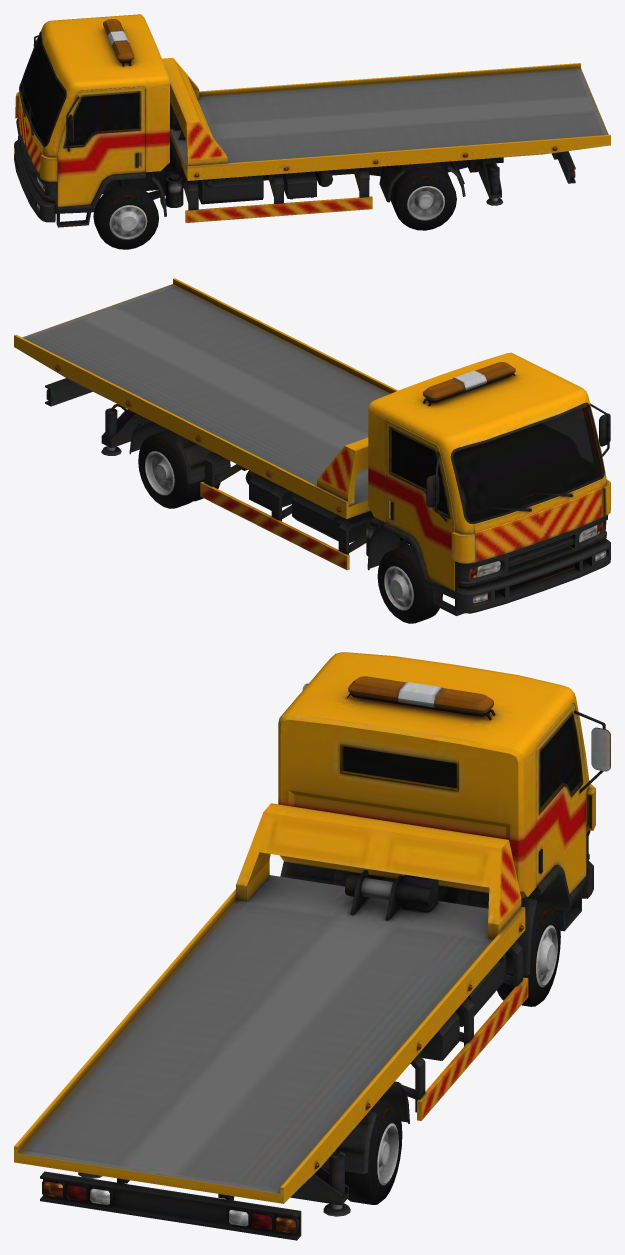
File: veh-grua.glb
3 views of the same model, one above another, from view 1: azimuth 30°, elevation 25°; view 2: azimuth 150°, elevation 25°; view 3: azimuth 270°, elevation 25° (orthographic). The views are drawn at different scales.
Parts seen in each view (by area): view 1: towtruck; view 2: towtruck; view 3: towtruck.
Boxes of the visible parts, x1,y1,x2,y2 form: towtruck: (14, 14, 610, 249); towtruck: (14, 278, 610, 623); towtruck: (14, 652, 610, 1240).
Bounding box in the file's own units: 7.13 × 2.39 × 4.33.
Materials: 4 (4 with a texture image).
